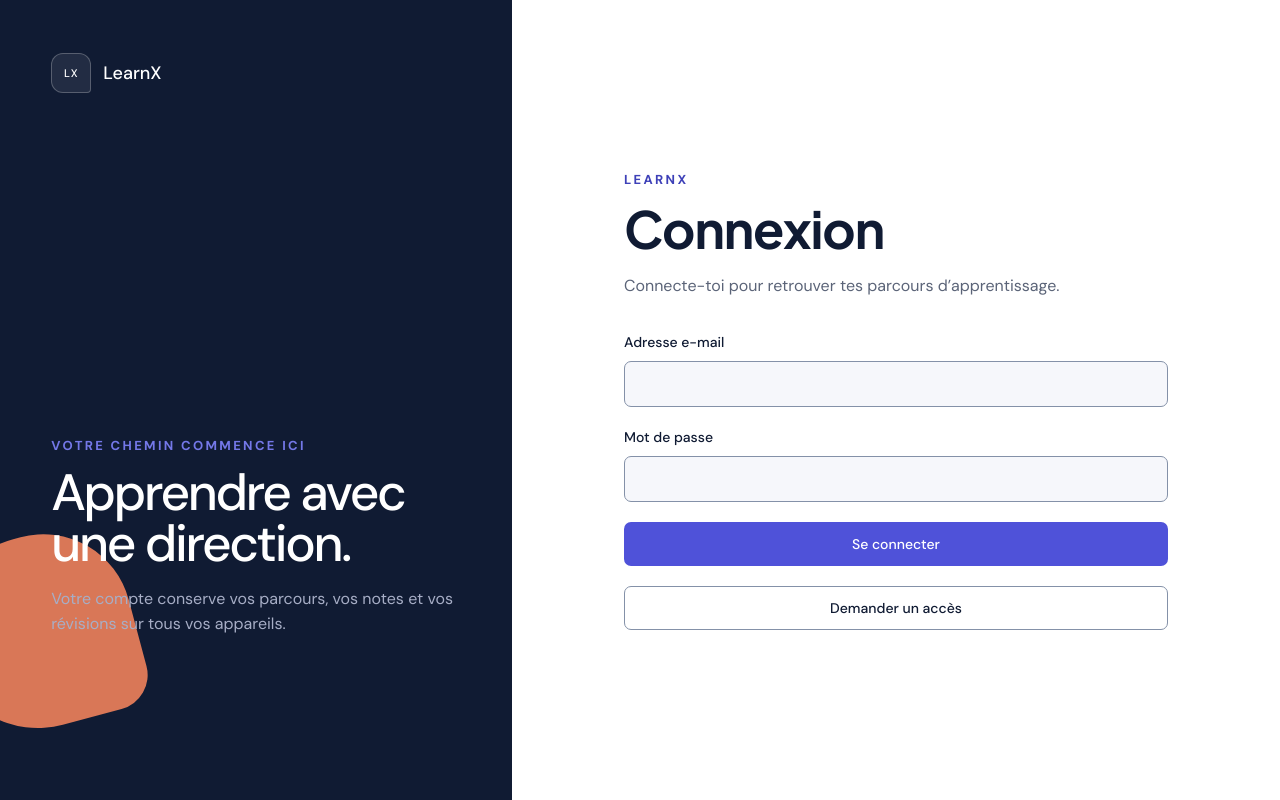
Test: App › ouvre une demande d’accès publique sans demander de mot de passe
The width and height of the screenshot is (1280, 800).
Step 1. Click the link "Demander un accès" → point(896, 608), box [624,586,1168,630]
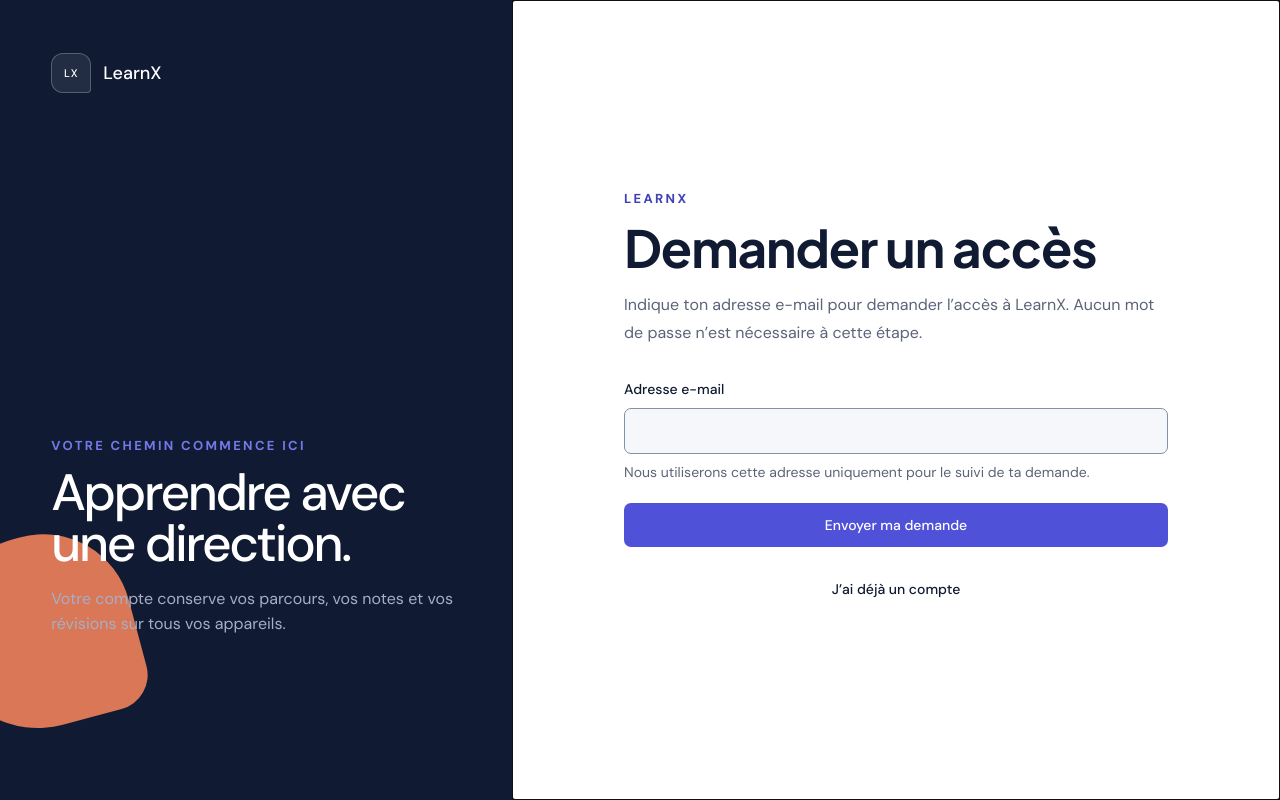
Check: the heading "Demander un accès" is shown, box [624,220,1168,275]
Check: the field labelled "Adresse e-mail" is shown, box [624,408,1168,454]
